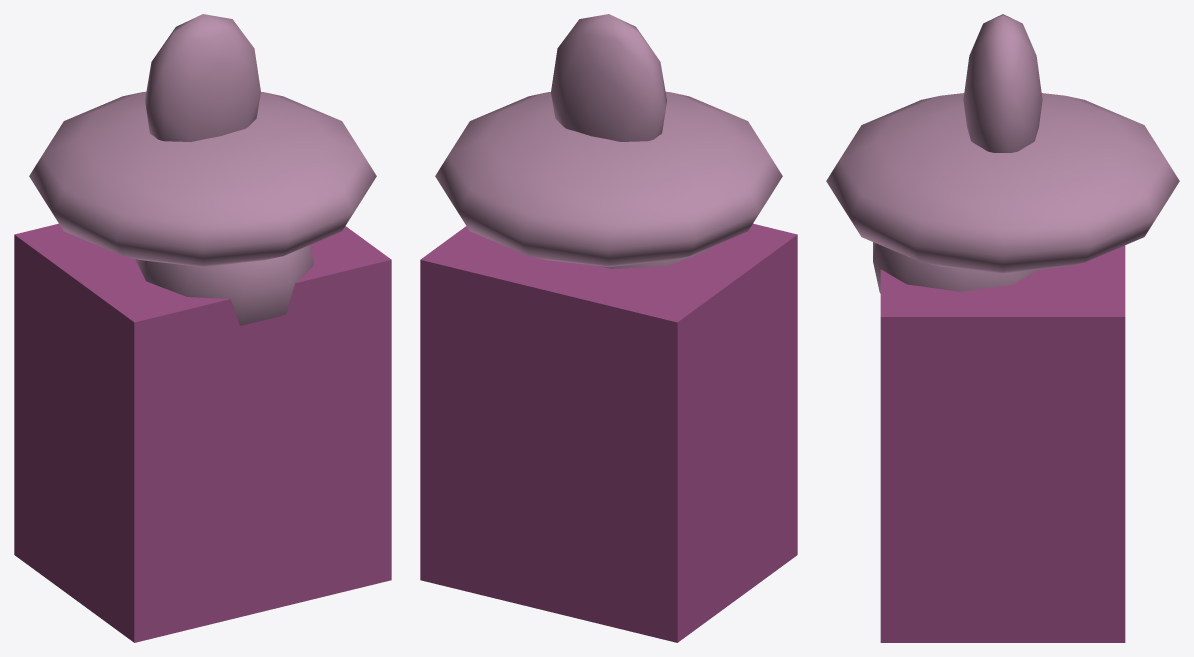
Rendered from mushroom_elite.glb.
The picture shows the model from 3 angles, left to right: view 1: azimuth 30°, elevation 25°; view 2: azimuth 150°, elevation 25°; view 3: azimuth 270°, elevation 25°; orthographic projection.
Visible parts, largest first — view 1: CoreBody, MOTIF_mushroom_cap, ELITE_mushroom_crest, Head; view 2: CoreBody, MOTIF_mushroom_cap, ELITE_mushroom_crest; view 3: CoreBody, MOTIF_mushroom_cap, ELITE_mushroom_crest, Head.
Boxes of the visible parts, <box> form: CoreBody: <box>14,223,391,642</box>; MOTIF_mushroom_cap: <box>29,91,376,266</box>; ELITE_mushroom_crest: <box>145,14,260,141</box>; Head: <box>135,245,313,325</box>; CoreBody: <box>420,223,797,642</box>; MOTIF_mushroom_cap: <box>435,91,782,266</box>; ELITE_mushroom_crest: <box>551,14,666,141</box>; CoreBody: <box>880,245,1125,642</box>; MOTIF_mushroom_cap: <box>826,93,1179,273</box>; ELITE_mushroom_crest: <box>963,14,1042,152</box>; Head: <box>873,242,1039,293</box>.
Bounding box in the file's own units: 1.5 × 2.63 × 1.5.
